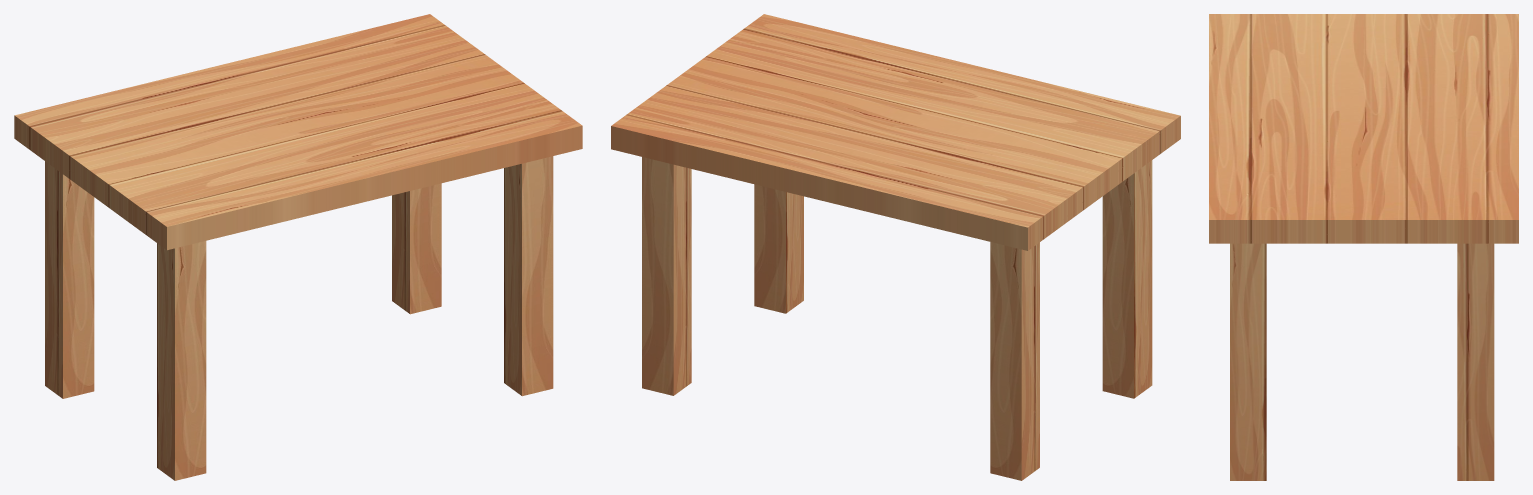
Rendered from masa.fbx.
3 renders of one model, left to right at view 1: azimuth 30°, elevation 25°; view 2: azimuth 150°, elevation 25°; view 3: azimuth 270°, elevation 25°, orthographic.
Visible parts, largest first — view 1: Cube.022; view 2: Cube.022; view 3: Cube.022.
Part boxes in pixels (<box>): Cube.022: <box>14,14,582,480</box>; Cube.022: <box>611,14,1180,480</box>; Cube.022: <box>1209,14,1518,480</box>.
Bounding box in the file's own units: 514 × 314 × 327.
1 material, 1 textured.
